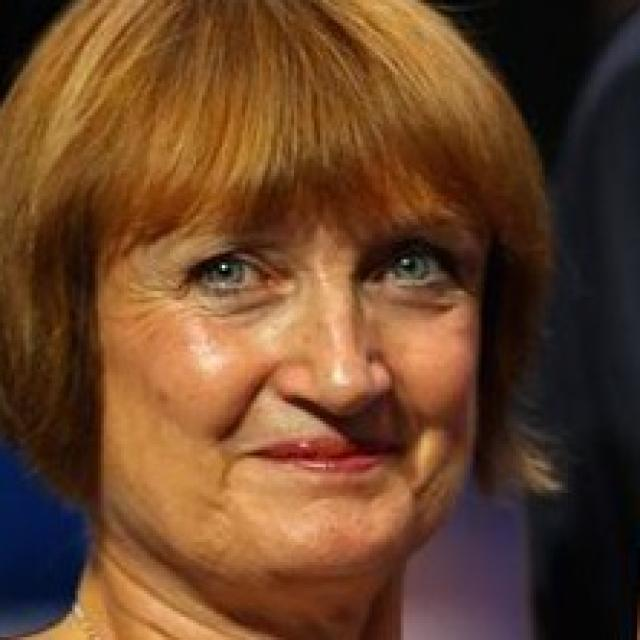Normal: (102, 127, 495, 597)
